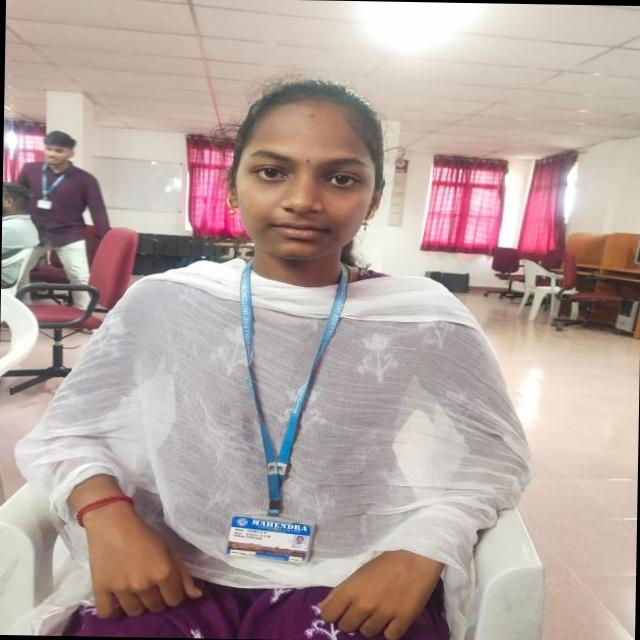id_card: (225, 256, 350, 564)
